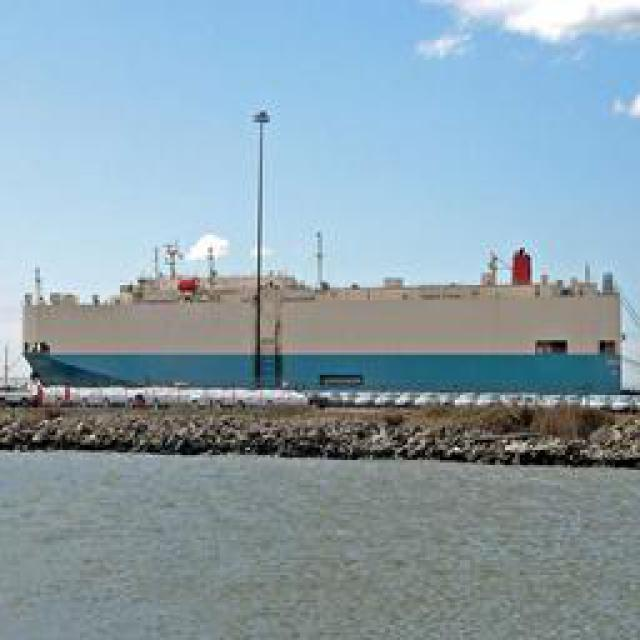Ship: (9, 102, 640, 393)
